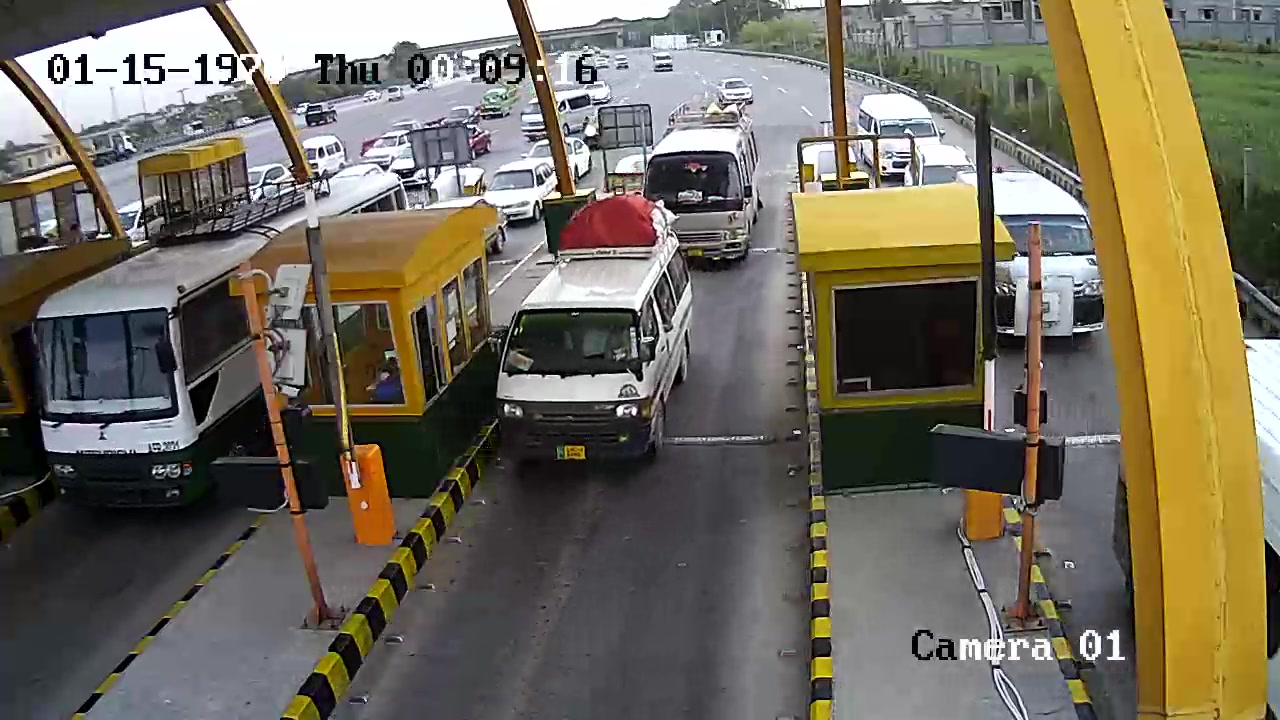F3: (487, 188, 700, 481)
